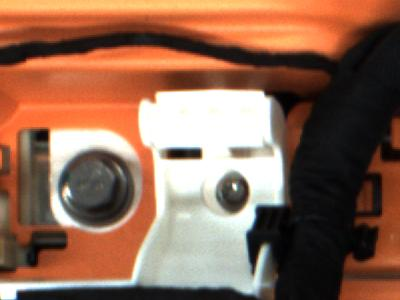nut_b: (57, 148, 138, 226)
